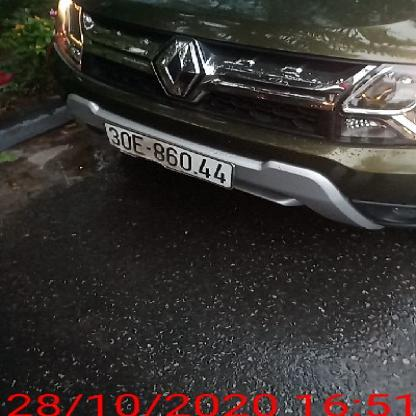biensoxe: (102, 120, 235, 190)
